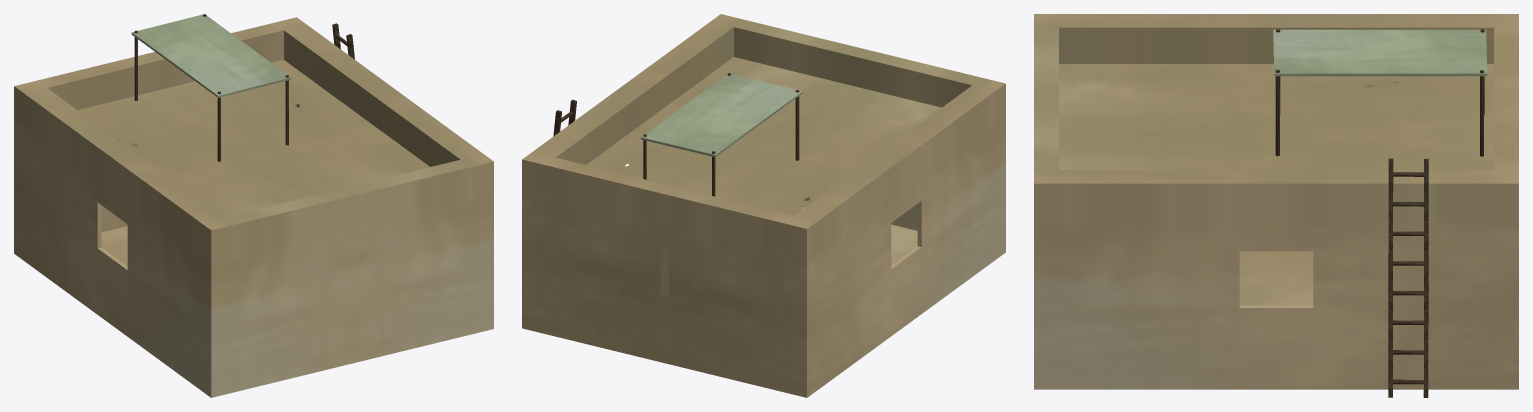
File: home.fbx
3 views of the same model, side by side, from view 1: azimuth 30°, elevation 25°; view 2: azimuth 150°, elevation 25°; view 3: azimuth 270°, elevation 25° (orthographic). The views are drawn at different scales.
Parts seen in each view (by area): view 1: Cylinder.002; view 2: Cylinder.002; view 3: Cylinder.002.
Part boxes in pixels (left/top/right/bottom): Cylinder.002: left=14, top=14, right=493, bottom=397; Cylinder.002: left=522, top=14, right=1005, bottom=397; Cylinder.002: left=1034, top=14, right=1518, bottom=397.
Size of the model in its own units: 2757 by 1792 by 3093.
